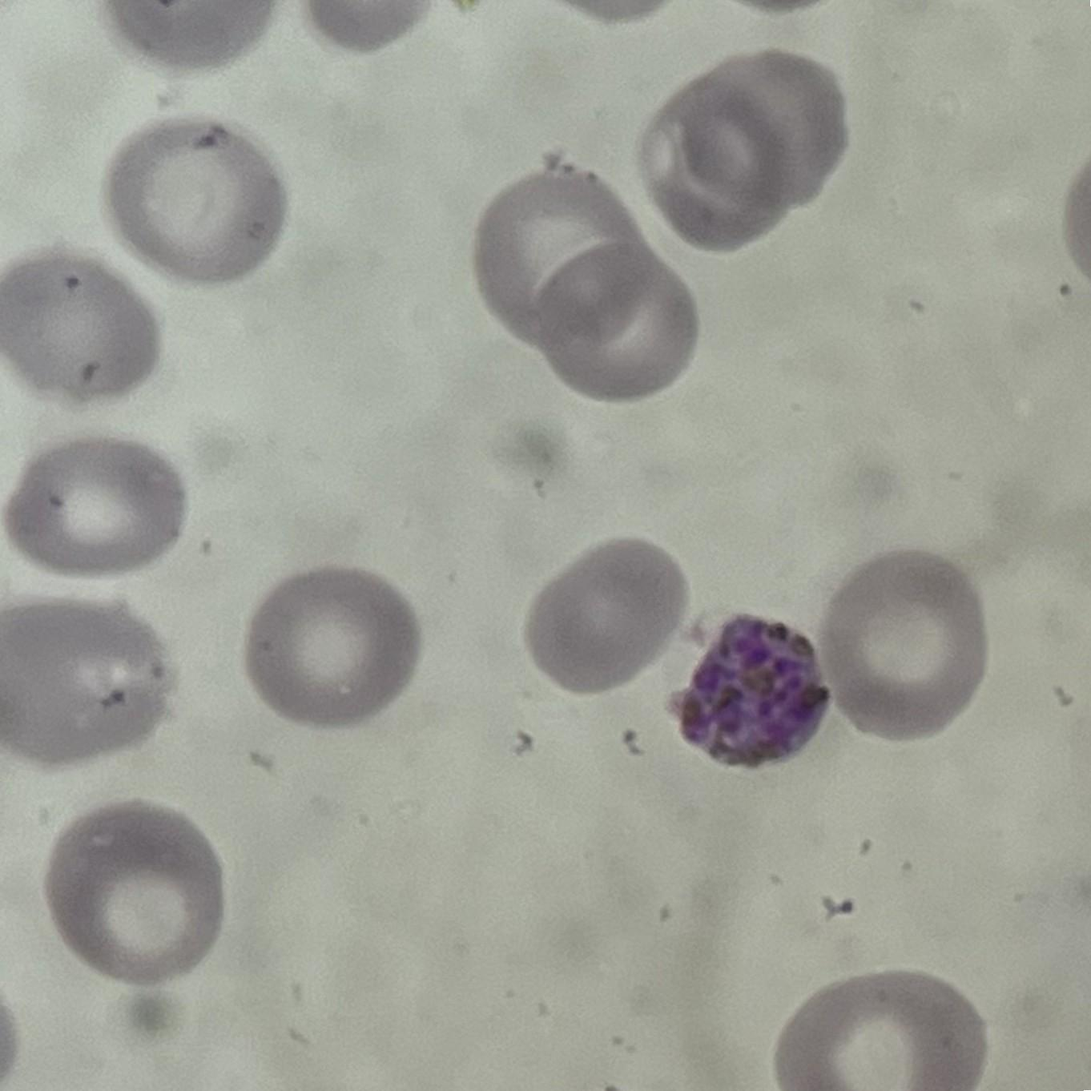Infected: (681, 618, 826, 770)
Uninfected: (641, 49, 851, 253), (51, 794, 221, 985), (822, 554, 991, 741), (481, 172, 652, 349), (107, 126, 288, 287), (3, 607, 176, 768), (0, 436, 185, 577), (531, 532, 691, 695), (537, 241, 696, 403), (256, 570, 424, 721), (0, 255, 162, 399)
